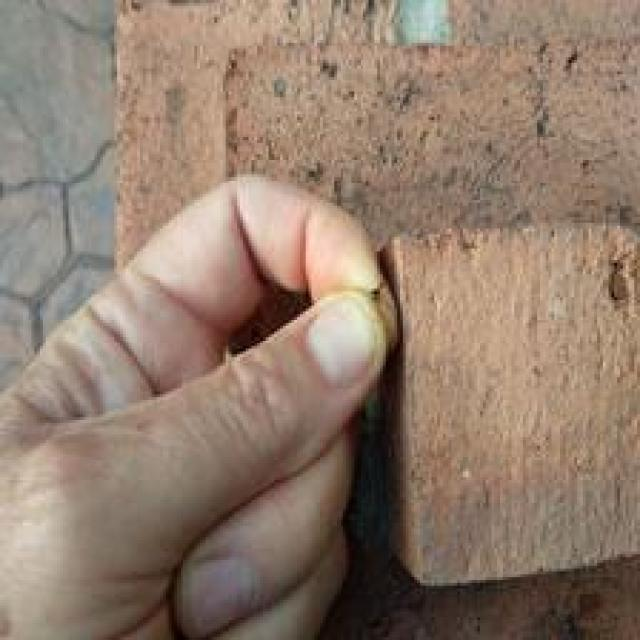Aedes albopictus: (371, 220, 640, 589)
